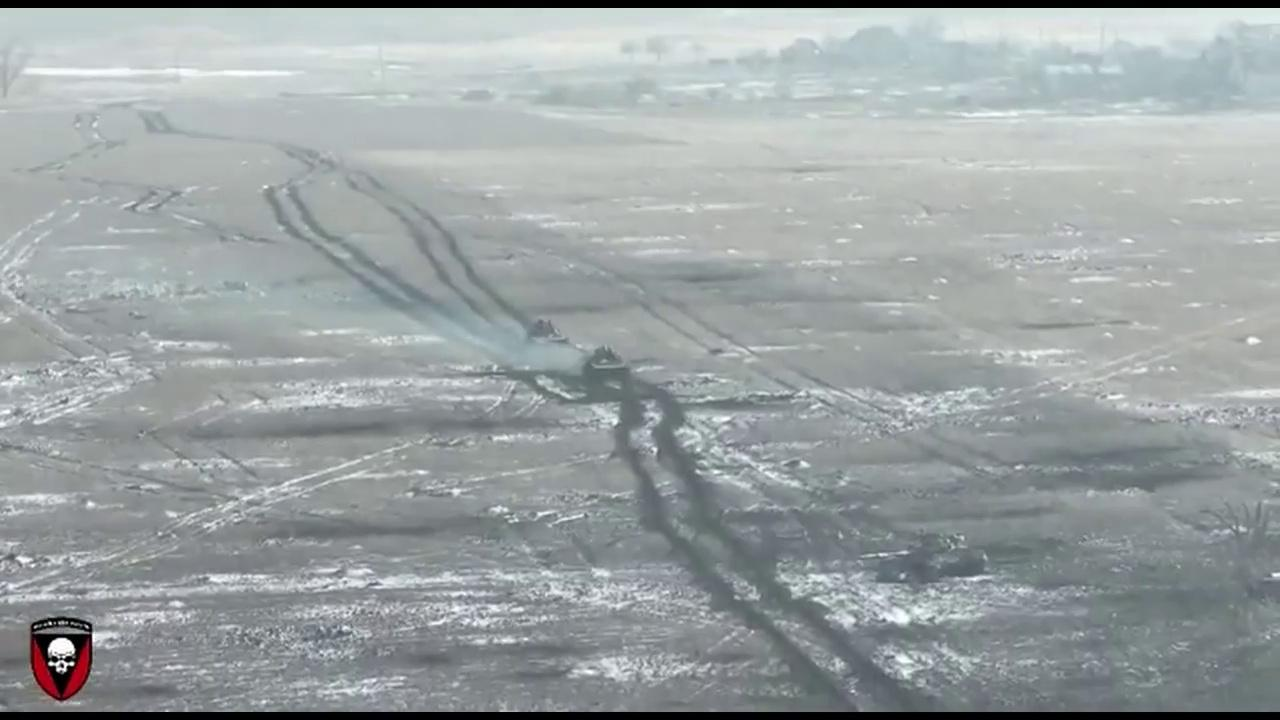vehicle: (917, 532, 989, 574), (584, 344, 628, 381), (524, 321, 566, 347)
